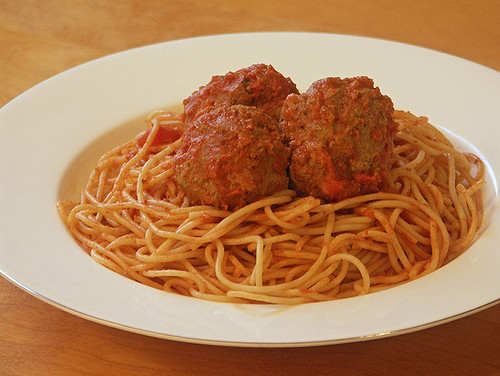meatballs: (178, 68, 401, 202)
plain spaghetti: (135, 221, 372, 284)
